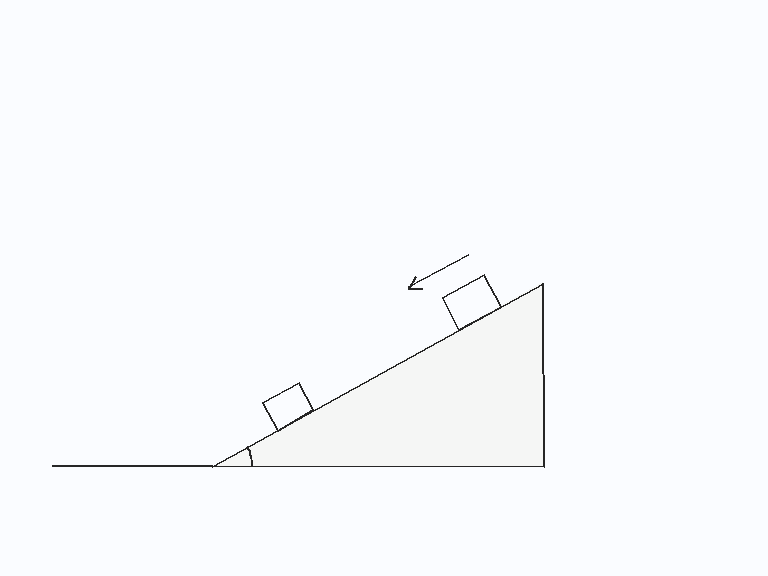block: (439, 272, 503, 331), (260, 381, 316, 432)
ramp: (210, 281, 545, 468)
